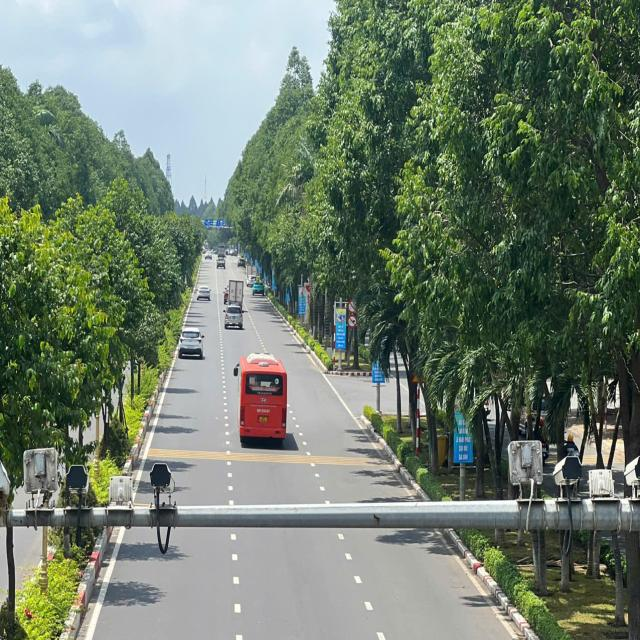ben: (227, 278, 246, 310), (216, 240, 227, 260)
car: (232, 353, 289, 446), (178, 325, 205, 361), (222, 302, 245, 332), (195, 283, 212, 303), (251, 280, 266, 298), (215, 256, 228, 270), (246, 274, 258, 289), (237, 254, 248, 269), (203, 249, 214, 262)
